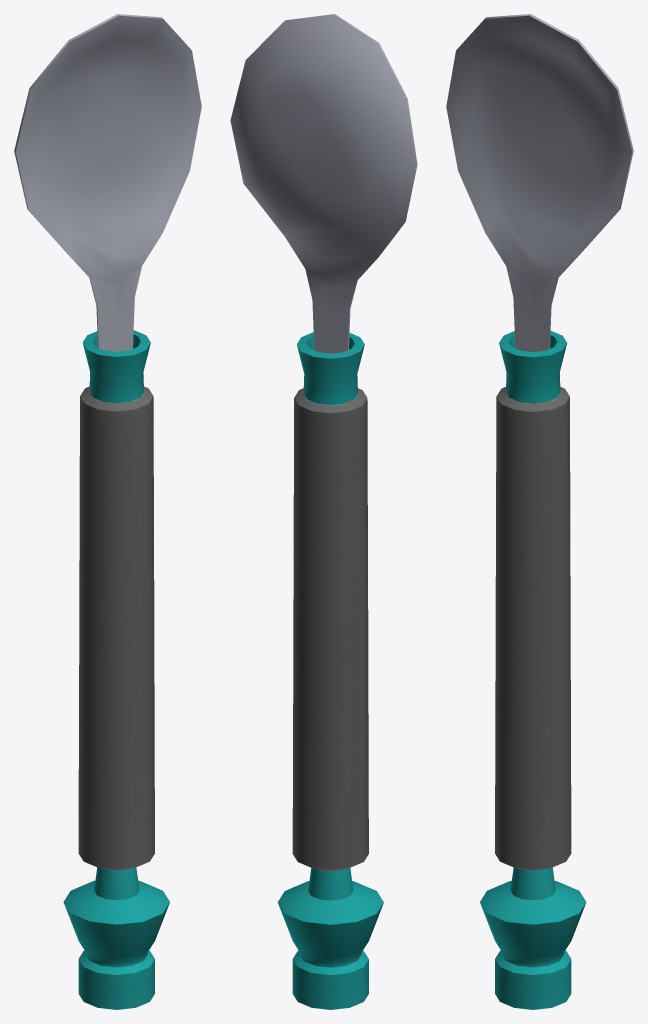
File: spoon.fbx
3 views of the same model, side by side, from view 1: azimuth 30°, elevation 25°; view 2: azimuth 150°, elevation 25°; view 3: azimuth 330°, elevation 25° (orthographic).
Parts seen in each view (by area): view 1: spoon; view 2: spoon; view 3: spoon.
Boxes of the visible parts, x1,y1,x2,y2 form: spoon: [14, 14, 201, 1009]; spoon: [230, 14, 417, 1009]; spoon: [446, 14, 633, 1009].
Size of the model in its own units: 10.03 by 50.52 by 4.98.
